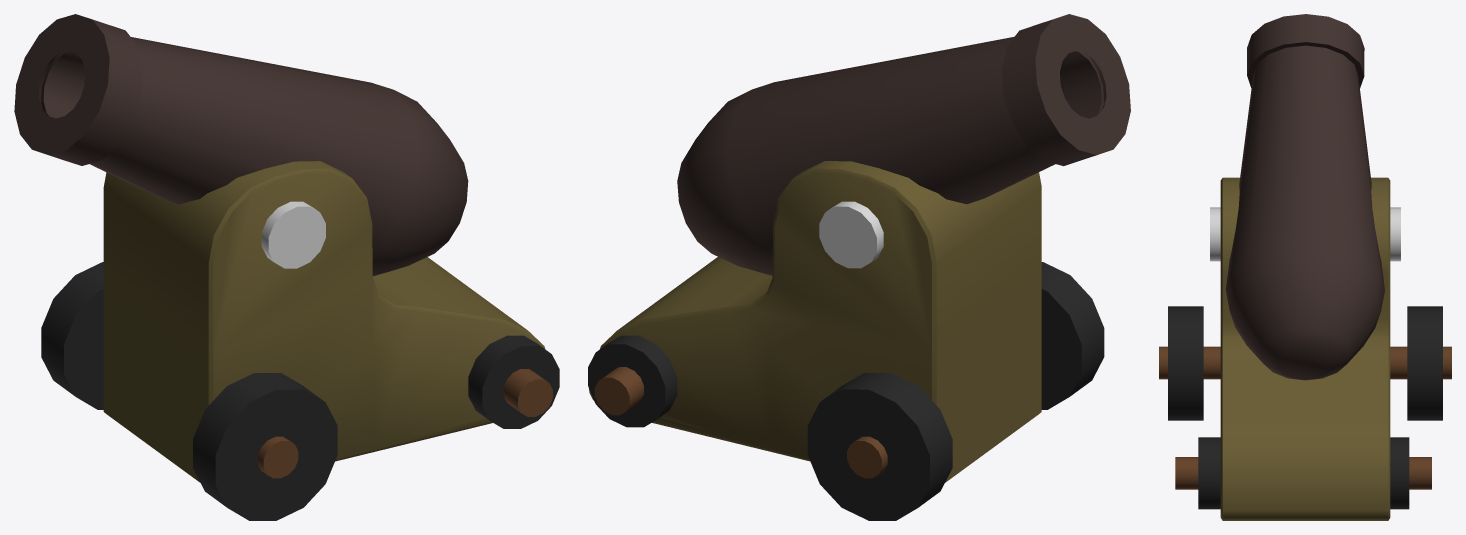
File: cannon_bonus_02.fbx
The picture shows the model from 3 angles, left to right: view 1: azimuth 30°, elevation 25°; view 2: azimuth 150°, elevation 25°; view 3: azimuth 270°, elevation 25°; orthographic projection. The views are drawn at different scales.
Visible parts, largest first — view 1: cannon_bonus_02; view 2: cannon_bonus_02; view 3: cannon_bonus_02.
Part boxes in pixels (x1,y1,x2,y2): cannon_bonus_02: (14, 14, 559, 520); cannon_bonus_02: (588, 14, 1130, 520); cannon_bonus_02: (1159, 14, 1451, 520).
Size of the model in its own units: 0.3188 by 0.2973 by 0.2168.
